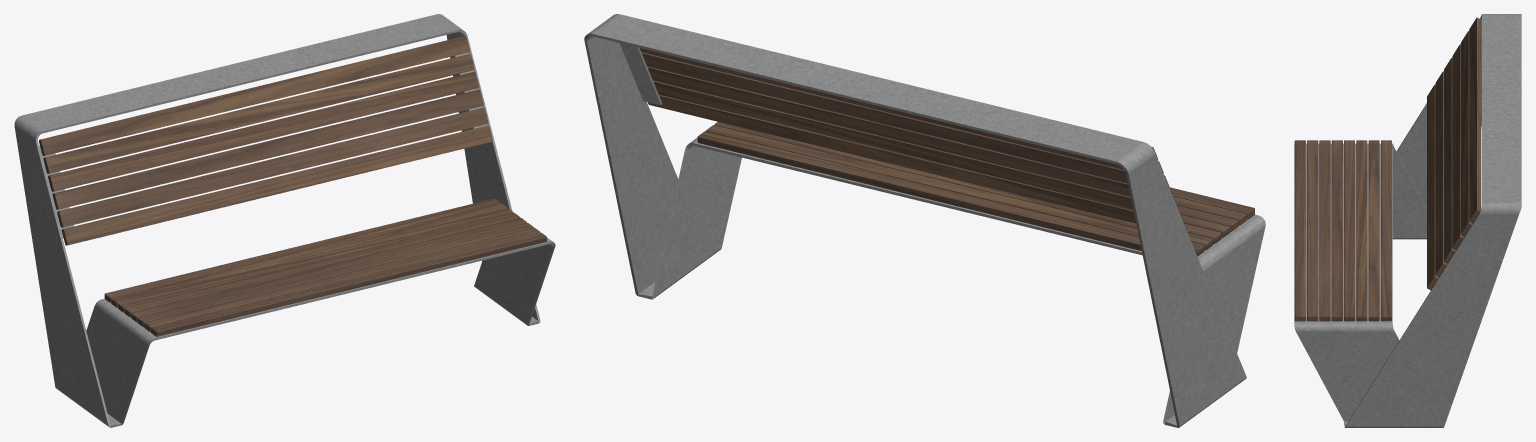
The model's file is modern_bench_2.glb.
3 renders of one model, left to right at view 1: azimuth 30°, elevation 25°; view 2: azimuth 150°, elevation 25°; view 3: azimuth 270°, elevation 25°, orthographic. The views are drawn at different scales.
Visible parts, largest first — view 1: Luca3D_Modern_Bench_2_0; view 2: Luca3D_Modern_Bench_2_0; view 3: Luca3D_Modern_Bench_2_0.
Part boxes in pixels (x1=…): Luca3D_Modern_Bench_2_0: x1=14, y1=14, x2=555, y2=427; Luca3D_Modern_Bench_2_0: x1=584, y1=14, x2=1265, y2=427; Luca3D_Modern_Bench_2_0: x1=1294, y1=14, x2=1521, y2=427.
Bounding box in the file's own units: 2.14 × 1.14 × 1.06.
Materials: 1 (1 with a texture image).
